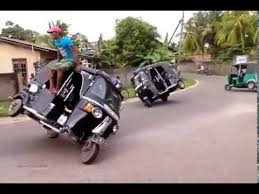tuk tuk: (5, 59, 124, 164), (130, 62, 186, 109), (223, 61, 259, 93)
